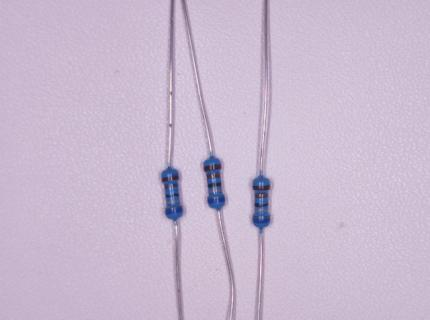Black band: (207, 182, 221, 188), (165, 192, 179, 197), (254, 203, 268, 207)
Blue band: (165, 208, 183, 215), (207, 197, 225, 204), (253, 217, 271, 224)
Brown band: (203, 163, 221, 171), (162, 175, 179, 183), (253, 185, 270, 190)
Grey band: (208, 188, 222, 194), (254, 208, 268, 213), (166, 199, 180, 204)
Orange band: (206, 173, 220, 179), (164, 183, 178, 189), (254, 194, 268, 198)
